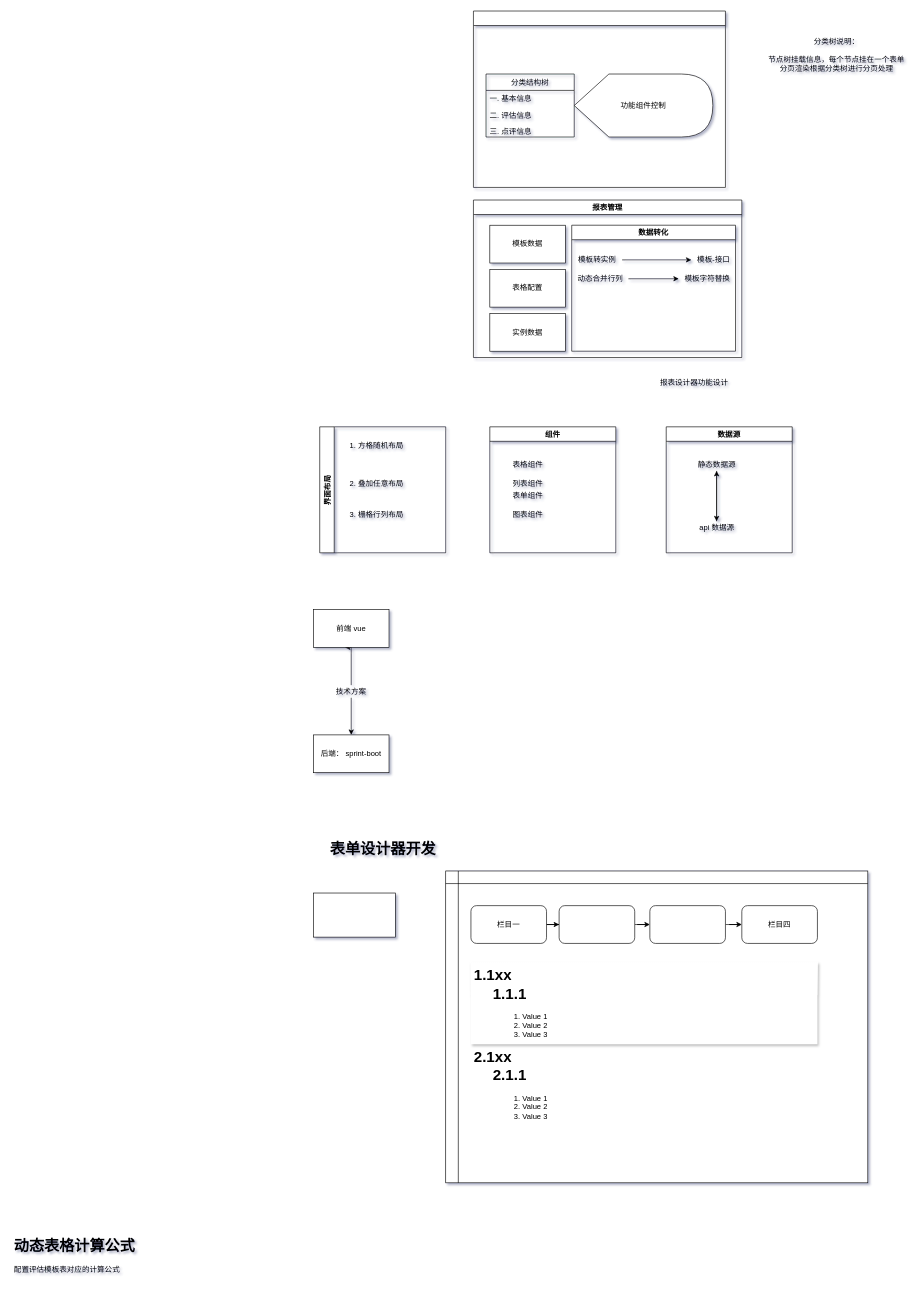
The diagram is 923 pixels wide and 1292 high, and some of its shapes have lost their labels. The shapes that lost their labels are listed below. From the top down, each one's centre as x and y in pixels, then its label:
At pixel 599 98: "表格模板管理".
At pixel 354 914: "预览方案 多分类多层级展示".
At pixel 596 924: "栏目二".
At pixel 687 924: "栏目三".
